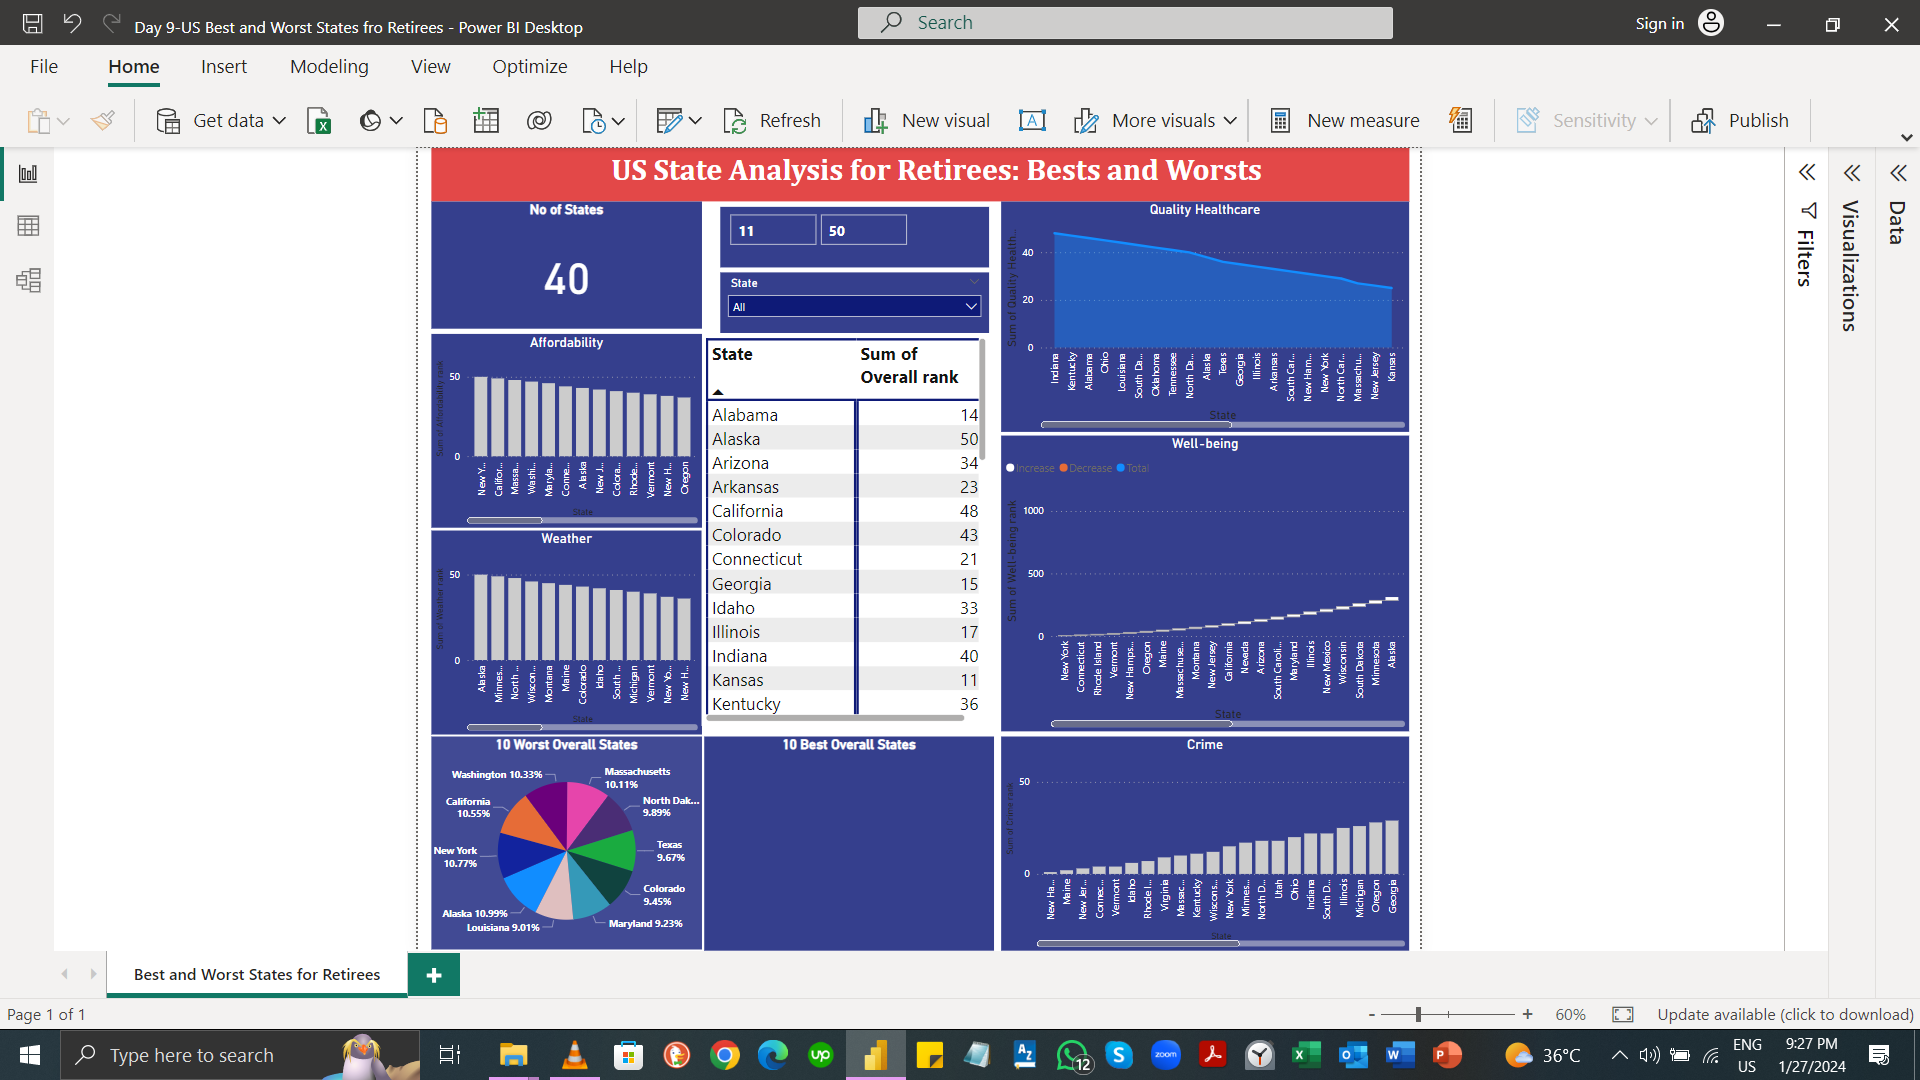

This screenshot's page, from the dashboard's own definition file:
{"tool":"powerbi","page":{"name":"Best and Worst States for Retirees","canvas":[1249,1000],"ordinal":0},"visuals":[{"type":"textbox","box":[16.6,0,1218.9,66.3],"z":0},{"type":"card","title":"No of States","fields":{"Values":["Sheet 1.State"]},"box":[16.6,66.3,336.9,158.3],"z":1000},{"type":"columnChart","title":"Weather","fields":{"Category":["Sheet 1.State"],"Y":["Sheet 1.Weather rank"]},"box":[16.6,476.9,336.9,254.1],"z":2000},{"type":"lineClusteredColumnComboChart","title":"Crime ","fields":{"Category":["Sheet 1.State"],"Y":["Sheet 1.Crime rank"]},"box":[727.3,732.8,508.2,267],"z":3000},{"type":"slicer","fields":{"Values":["Sheet 1.Overall rank"]},"box":[377.5,73.6,335.1,75.5],"z":4000},{"type":"areaChart","title":"Quality Healthcare","fields":{"Category":["Sheet 1.State"],"Y":["Sheet 1.Quality Healthcare rank"]},"box":[727.3,66.3,508.2,287.2],"z":5000},{"type":"waterfallChart","title":"Well-being","fields":{"Category":["Sheet 1.State"],"Y":["Sheet 1.Well-being rank"]},"box":[727.3,359,508.2,368.2],"z":6000},{"type":"pivotTable","fields":{"Rows":["Sheet 1.State"],"Values":["Sheet 1.Overall rank"]},"box":[353.5,232,359,487.9],"z":7000},{"type":"slicer","fields":{"Values":["Sheet 1.State"]},"box":[377.5,154.7,335.1,75.5],"z":8000},{"type":"clusteredColumnChart","title":"Affordability ","fields":{"Y":["Sheet 1.Affordability rank"],"Category":["Sheet 1.State"]},"box":[16.6,232,336.9,241.2],"z":9000},{"type":"pieChart","title":"10 Best Overall States","fields":{"Y":["Sheet 1.Overall rank"],"Category":["Sheet 1.State"]},"box":[357.2,732.8,360.9,267],"z":10000},{"type":"pieChart","title":"10 Worst Overall States","fields":{"Category":["Sheet 1.State"],"Y":["Sheet 1.Overall rank"]},"box":[16.6,732.8,336.9,265.1],"z":11000}]}

Visuals, with their boxes on the page's 1249x1000 design canvas (x1, y1, x2, y2). These are canvas units, not pixel positions in the 1920x1080 screenshot, which may show the page scaled, cropped or inside an application window:
textbox: (x1=17, y1=0, x2=1236, y2=66)
"No of States" card: (x1=17, y1=66, x2=354, y2=225)
"Weather" columnChart: (x1=17, y1=477, x2=354, y2=731)
"Crime " lineClusteredColumnComboChart: (x1=727, y1=733, x2=1236, y2=1000)
slicer - Sheet 1.Overall rank: (x1=378, y1=74, x2=713, y2=149)
"Quality Healthcare" areaChart: (x1=727, y1=66, x2=1236, y2=354)
"Well-being" waterfallChart: (x1=727, y1=359, x2=1236, y2=727)
pivotTable - Sheet 1.State x Sheet 1.Overall rank: (x1=354, y1=232, x2=712, y2=720)
slicer - Sheet 1.State: (x1=378, y1=155, x2=713, y2=230)
"Affordability " clusteredColumnChart: (x1=17, y1=232, x2=354, y2=473)
"10 Best Overall States" pieChart: (x1=357, y1=733, x2=718, y2=1000)
"10 Worst Overall States" pieChart: (x1=17, y1=733, x2=354, y2=998)
